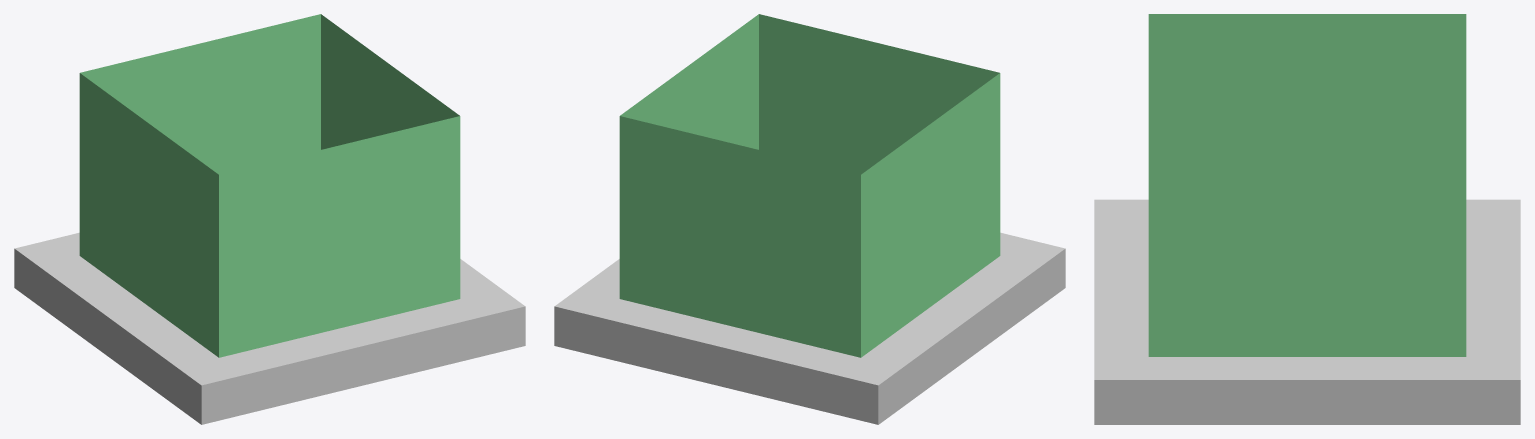
File: 4J_Green.fbx
3 renders of one model, left to right at view 1: azimuth 30°, elevation 25°; view 2: azimuth 150°, elevation 25°; view 3: azimuth 270°, elevation 25°, orthographic. The views are drawn at different scales.
Visible parts, largest first — view 1: 立方体.006, 立方体.005; view 2: 立方体.006, 立方体.005; view 3: 立方体.006, 立方体.005.
Boxes of the visible parts, bbox=[...] form: 立方体.006: bbox=[79, 14, 460, 357]; 立方体.005: bbox=[14, 232, 525, 424]; 立方体.006: bbox=[619, 14, 1000, 357]; 立方体.005: bbox=[554, 232, 1065, 424]; 立方体.006: bbox=[1148, 14, 1466, 356]; 立方体.005: bbox=[1094, 199, 1520, 424].
Bounding box in the file's own units: 200 × 131 × 200.
